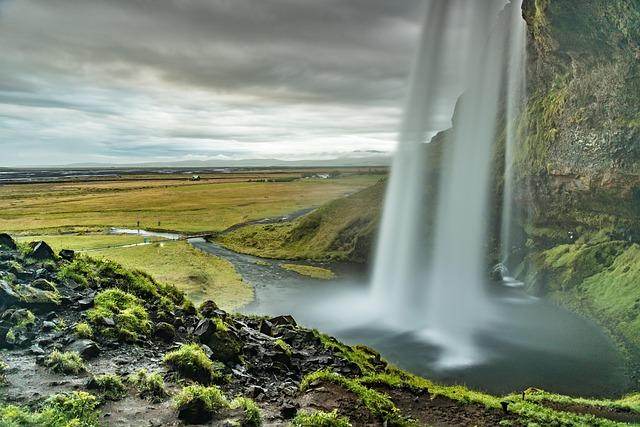Non_Gorille: (60, 52, 628, 424)
